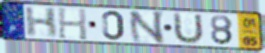0: (100, 10, 125, 42)
8: (209, 14, 234, 46)
H: (24, 6, 59, 38), (57, 6, 89, 41)
N: (127, 10, 166, 45)
U: (172, 12, 205, 45)
